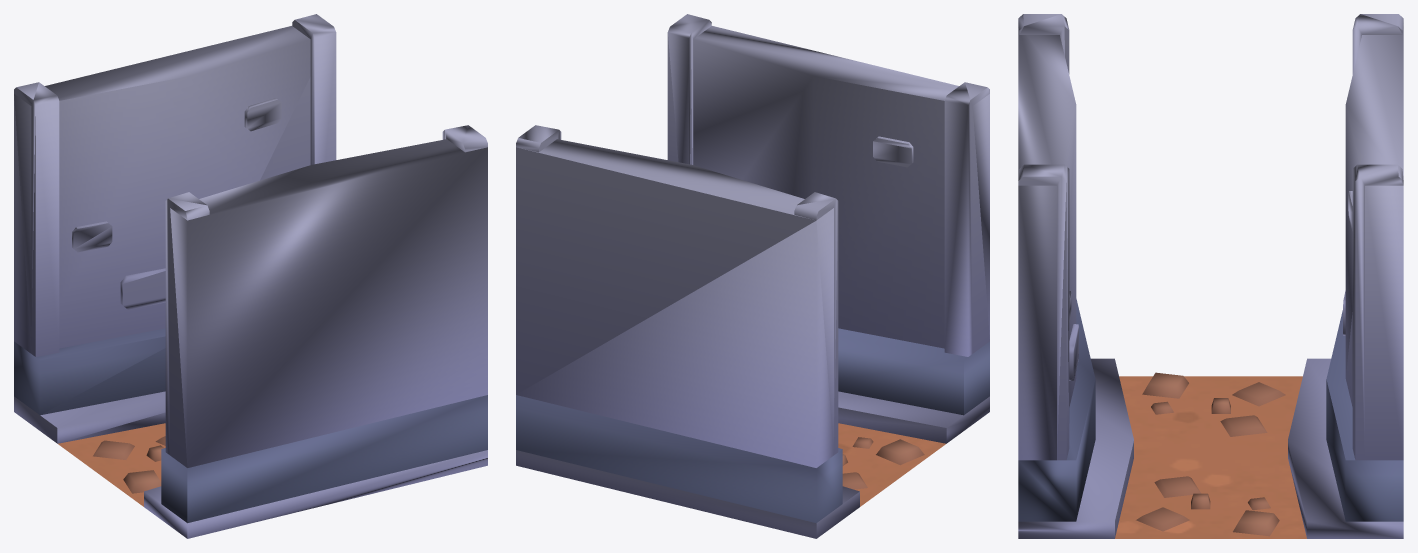
The picture shows the model from 3 angles, left to right: view 1: azimuth 30°, elevation 25°; view 2: azimuth 150°, elevation 25°; view 3: azimuth 270°, elevation 25°; orthographic projection. The views are drawn at different scales.
Visible parts, largest first — view 1: corridor; view 2: corridor; view 3: corridor.
Boxes of the visible parts, x1,y1,x2,y2 form: corridor: [14, 14, 487, 538]; corridor: [516, 14, 989, 538]; corridor: [1018, 14, 1403, 538].
Size of the model in its own units: 400 by 415 by 400.
1 material, 1 textured.
